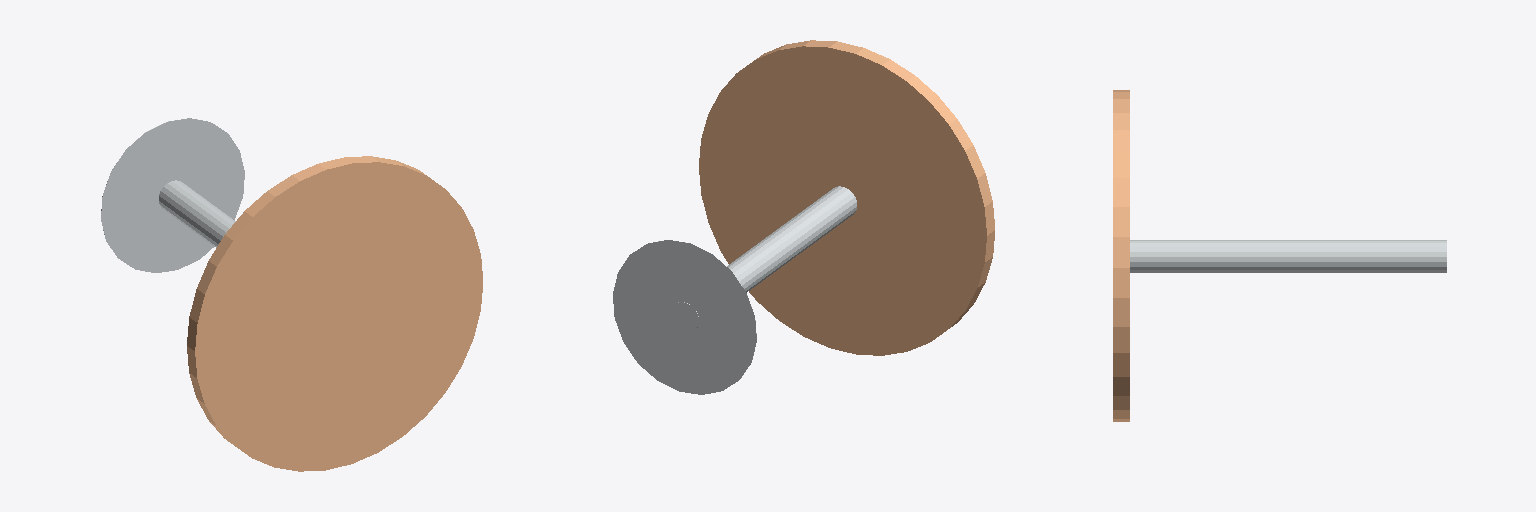
The model's file is tinker.obj.
The picture shows the model from 3 angles: view 1: azimuth 30°, elevation 25°; view 2: azimuth 150°, elevation 25°; view 3: azimuth 270°, elevation 25°; orthographic projection.
Visible parts, largest first — view 1: obj_0; view 2: obj_0; view 3: obj_0.
Part boxes in pixels (x1,y1,x2,y2): obj_0: (101, 118, 482, 471); obj_0: (613, 40, 994, 394); obj_0: (1113, 90, 1446, 421).
Size of the model in its own units: 20 by 19.92 by 20.